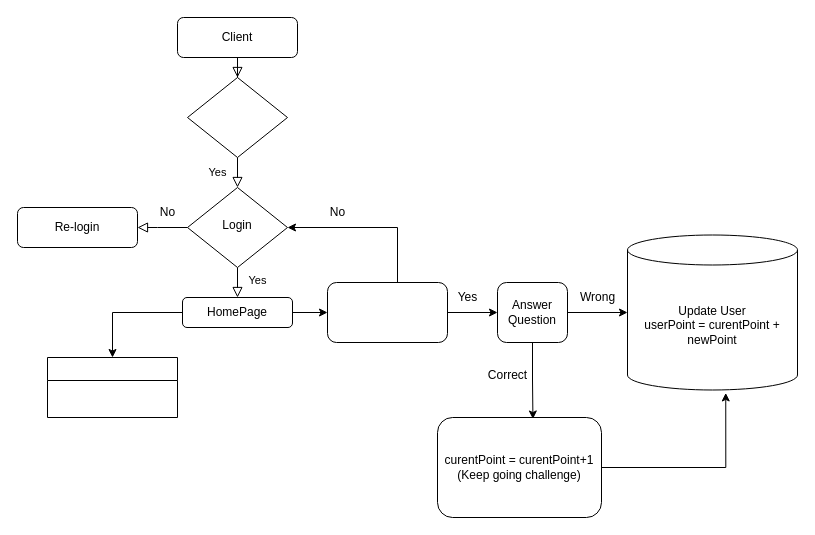
Some shapes in this 815 by 535 pixel diagram are drawn without their labels. Each missing label, with the box of its shape:
Register: (186, 76, 288, 158)
Starting Challenge (Must be login): (326, 282, 448, 342)
Table Users: (46, 356, 178, 418)
